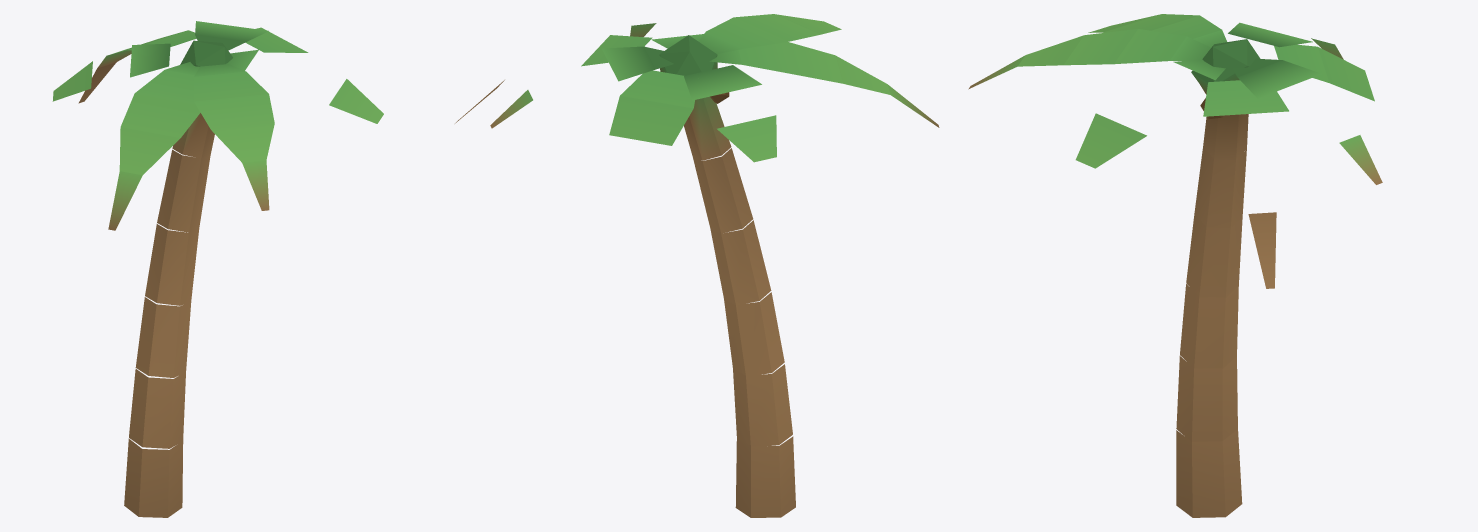
The model's file is palm_0.glb.
The picture shows the model from 3 angles, left to right: view 1: azimuth 30°, elevation 25°; view 2: azimuth 150°, elevation 25°; view 3: azimuth 270°, elevation 25°; orthographic projection. The views are drawn at different scales.
Visible parts, largest first — view 1: Palm; view 2: Palm; view 3: Palm.
Boxes of the visible parts, <box> form: Palm: <box>52,21,383,517</box>; Palm: <box>455,14,939,517</box>; Palm: <box>968,14,1382,517</box>.
Size of the model in its own units: 4.52 by 5.01 by 4.51.
